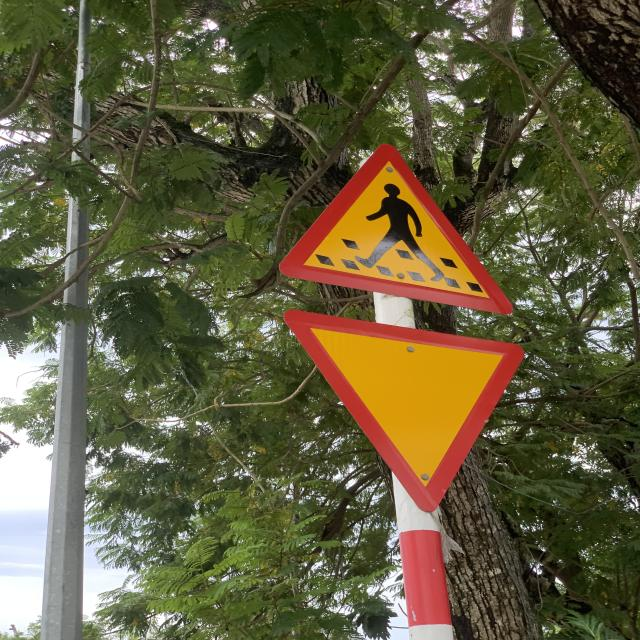Duong_Nguoi_Di_Bo_Sang_Ngang: (275, 141, 513, 317)
Gioi_Han_Toc_Do_25: (284, 308, 522, 513)
